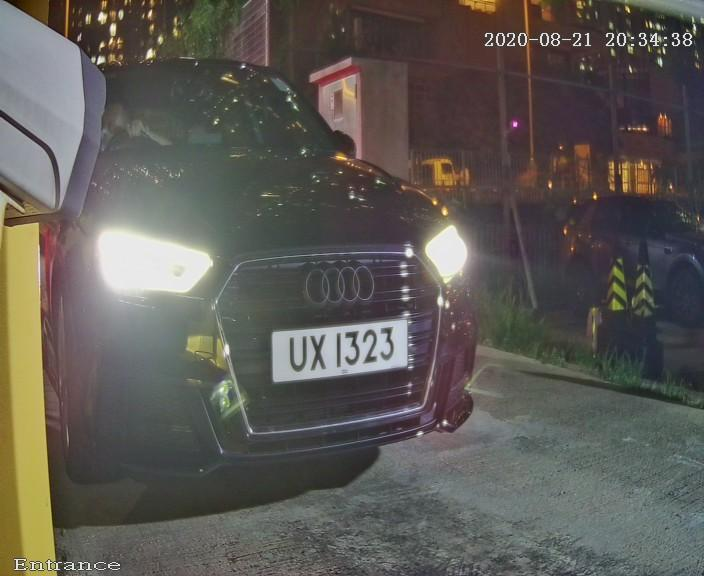Car: (10, 11, 510, 507)
License Plate: (252, 305, 428, 396)
